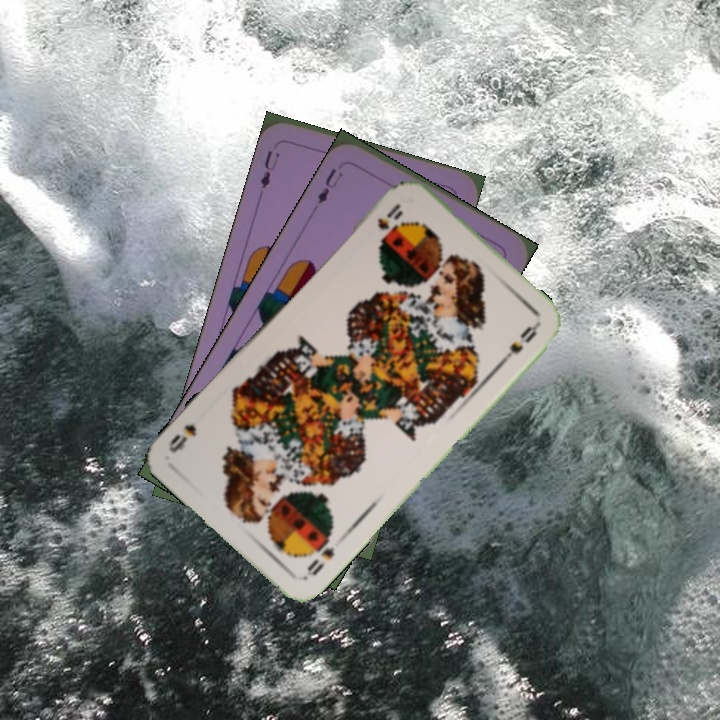EU: (313, 164, 346, 207), (256, 146, 283, 192)
SO: (300, 535, 337, 582), (373, 199, 406, 244)
